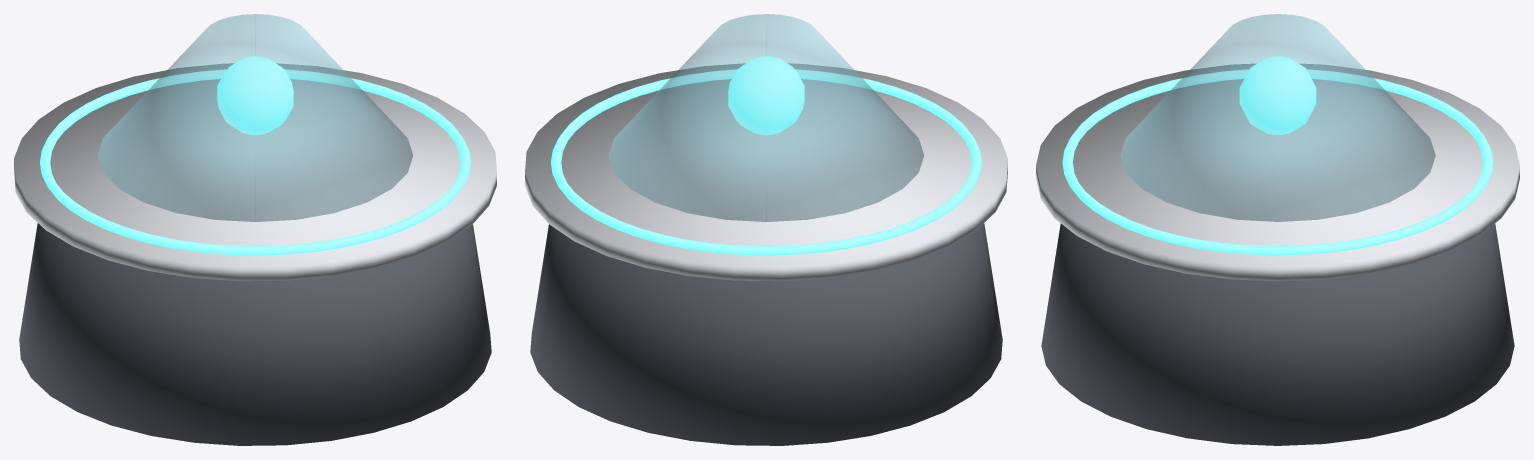
File: holotable_round_map.glb
The picture shows the model from 3 angles, left to right: view 1: azimuth 30°, elevation 25°; view 2: azimuth 150°, elevation 25°; view 3: azimuth 270°, elevation 25°; orthographic projection.
Parts seen in each view (by area): view 1: GD_holotable_round_map__m0, GD_holotable_round_map__m1, GD_holotable_round_map__m3, GD_holotable_round_map__m2; view 2: GD_holotable_round_map__m0, GD_holotable_round_map__m1, GD_holotable_round_map__m3, GD_holotable_round_map__m2; view 3: GD_holotable_round_map__m0, GD_holotable_round_map__m1, GD_holotable_round_map__m3, GD_holotable_round_map__m2.
Part boxes in pixels (x1,y1,x2,y2): GD_holotable_round_map__m0: (19, 223, 491, 445); GD_holotable_round_map__m1: (14, 63, 496, 281); GD_holotable_round_map__m3: (97, 14, 413, 221); GD_holotable_round_map__m2: (40, 56, 470, 255); GD_holotable_round_map__m0: (530, 223, 1002, 445); GD_holotable_round_map__m1: (525, 63, 1007, 281); GD_holotable_round_map__m3: (608, 14, 924, 221); GD_holotable_round_map__m2: (551, 56, 981, 255); GD_holotable_round_map__m0: (1041, 223, 1514, 445); GD_holotable_round_map__m1: (1036, 63, 1519, 281); GD_holotable_round_map__m3: (1120, 14, 1435, 221); GD_holotable_round_map__m2: (1062, 56, 1493, 255).
Size of the model in its own units: 1.84 by 1.3 by 1.84.
